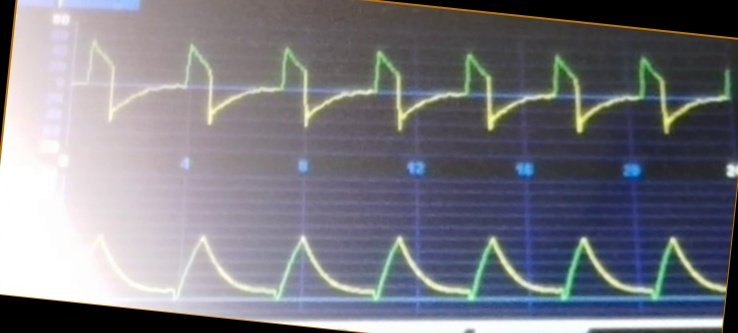Flow: (75, 38, 731, 143)
Leakage Volume: (88, 227, 720, 307)
